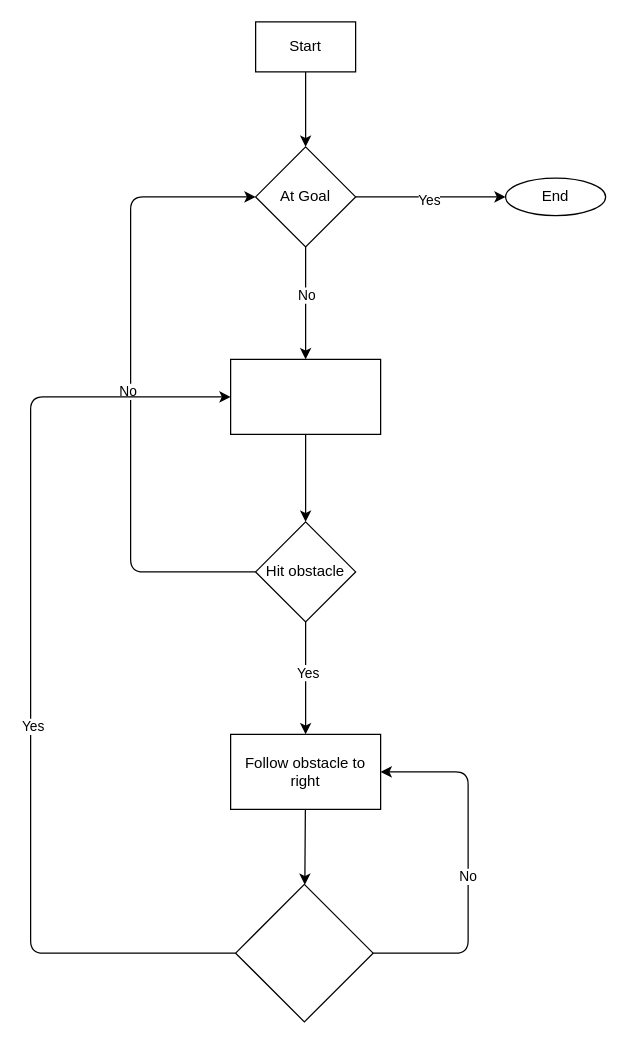
The diagram is 628 pixels wide and 1044 high, and some of its shapes have lost their labels. The shapes that lost their labels are listed below. From the top down, each one's box as (x1, y1, x2, y2) in pixels, then its label:
(229, 358, 381, 434): Move towards goal
(234, 883, 373, 1022): Able to move towards goal
